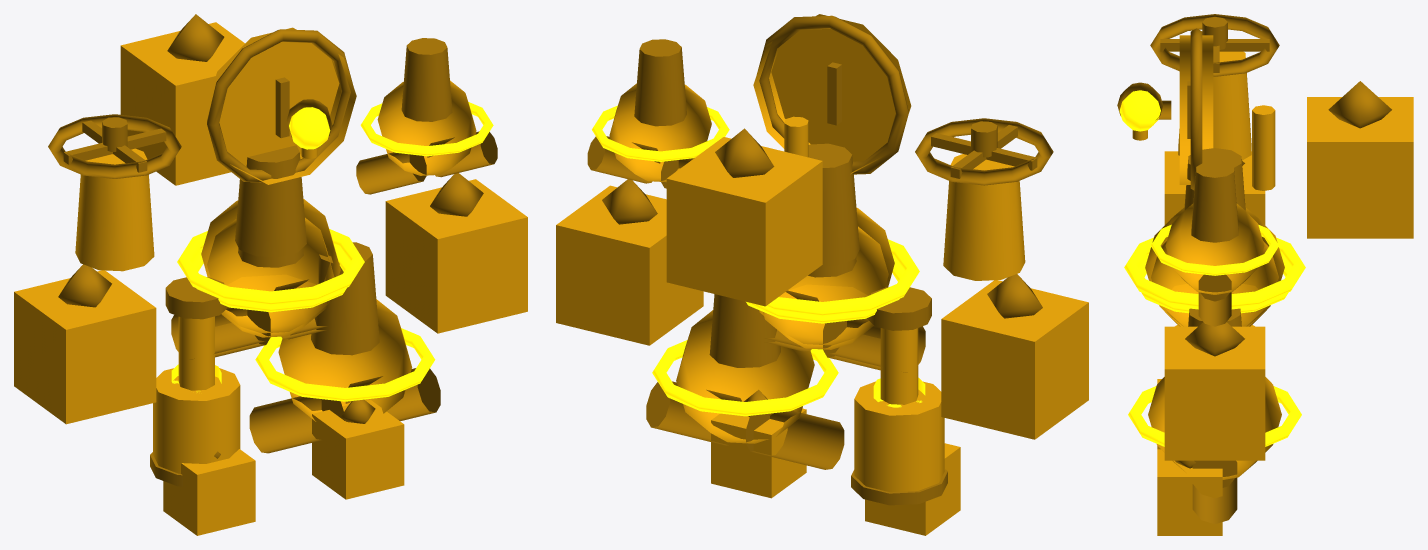
The model's file is golem_105.glb.
3 renders of one model, left to right at view 1: azimuth 30°, elevation 25°; view 2: azimuth 150°, elevation 25°; view 3: azimuth 270°, elevation 25°, orthographic. The views are drawn at different scales.
Visible parts, largest first — view 1: Body, Detail, Glow; view 2: Body, Detail, Glow; view 3: Body, Detail, Glow.
Part boxes in pixels (left/top/right/bottom): Body: left=14, top=22, right=527, bottom=535; Detail: left=48, top=14, right=497, bottom=486; Glow: left=171, top=102, right=493, bottom=401; Body: left=556, top=14, right=1088, bottom=535; Detail: left=587, top=15, right=1053, bottom=505; Glow: left=592, top=105, right=925, bottom=416; Body: left=1132, top=35, right=1413, bottom=535; Detail: left=1117, top=14, right=1391, bottom=523; Glow: left=1119, top=90, right=1305, bottom=446.
Size of the model in its own units: 1.24 by 1.2 by 0.7139.
